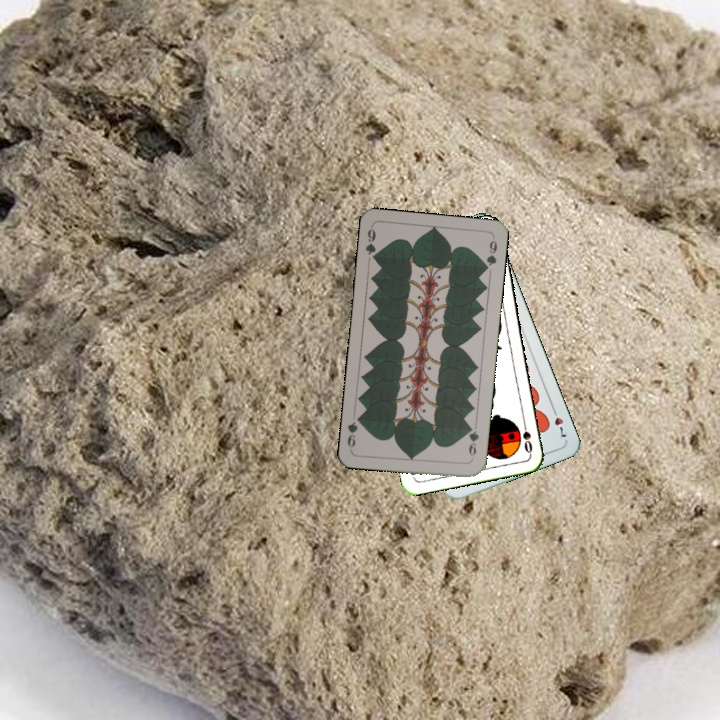G9: (361, 223, 380, 264), (464, 422, 482, 463)
H7: (548, 403, 569, 440)
SO: (518, 415, 535, 456)
